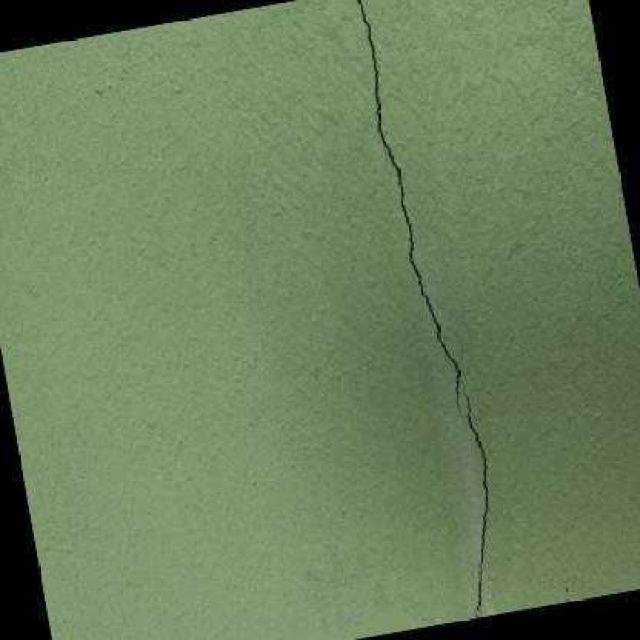D00: (357, 0, 459, 410), (462, 382, 488, 617)
